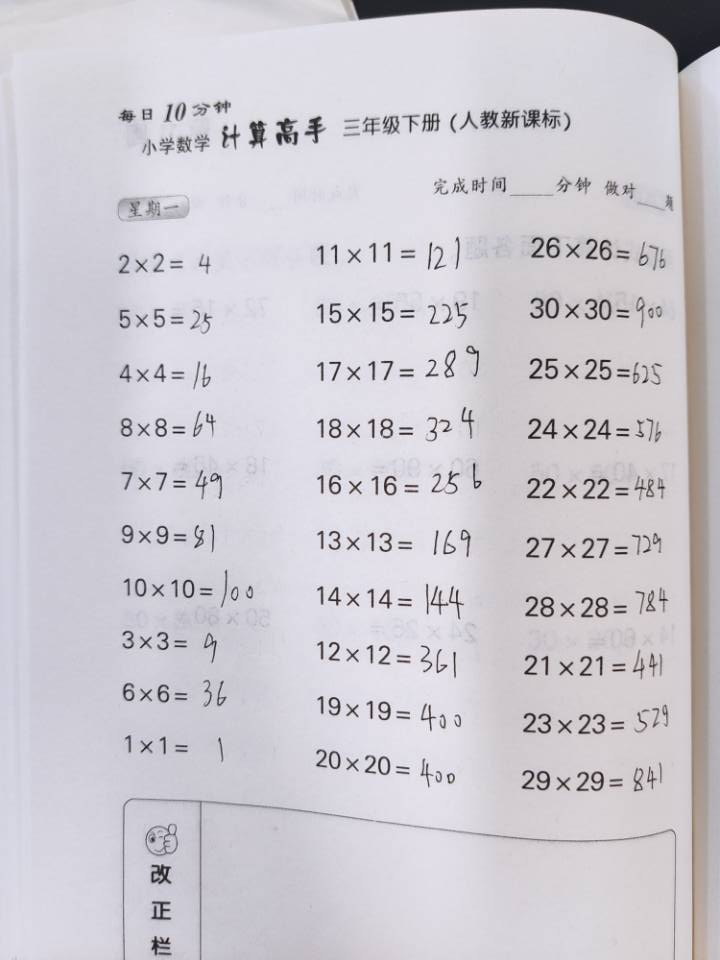equation: (255, 304, 296, 539), (170, 327, 209, 551), (344, 301, 379, 548), (305, 55, 338, 272), (352, 55, 385, 272), (437, 53, 469, 271), (484, 57, 516, 275), (262, 57, 294, 275), (172, 61, 204, 279), (565, 55, 597, 272), (389, 63, 421, 280), (524, 55, 556, 272), (217, 63, 249, 280), (425, 608, 459, 811), (556, 340, 590, 543), (519, 340, 553, 543), (478, 337, 512, 540), (434, 335, 468, 537), (392, 328, 422, 544), (220, 323, 250, 539), (304, 321, 334, 537), (470, 628, 499, 808), (182, 651, 209, 821), (548, 637, 574, 808), (391, 640, 417, 811), (349, 648, 375, 819), (308, 641, 334, 812), (229, 641, 255, 812), (509, 631, 535, 801), (267, 643, 293, 813)
